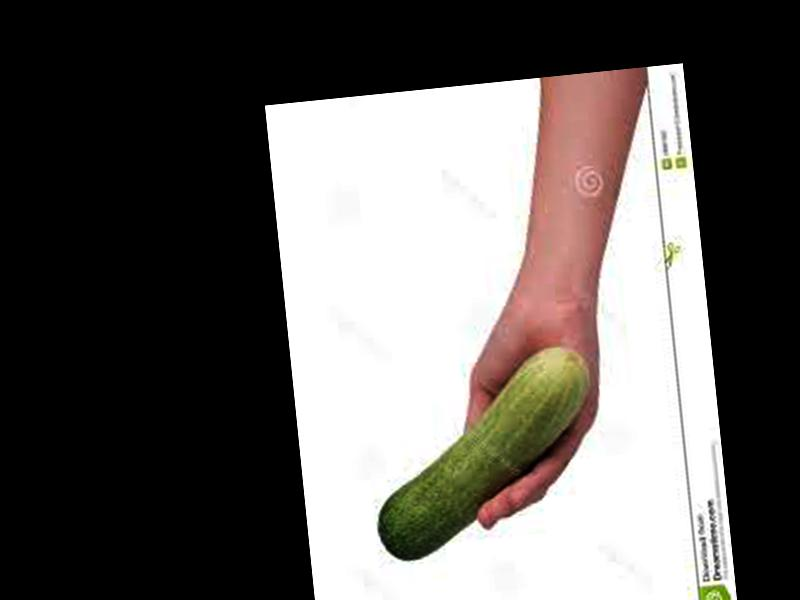Cucumber: (363, 344, 603, 560)
